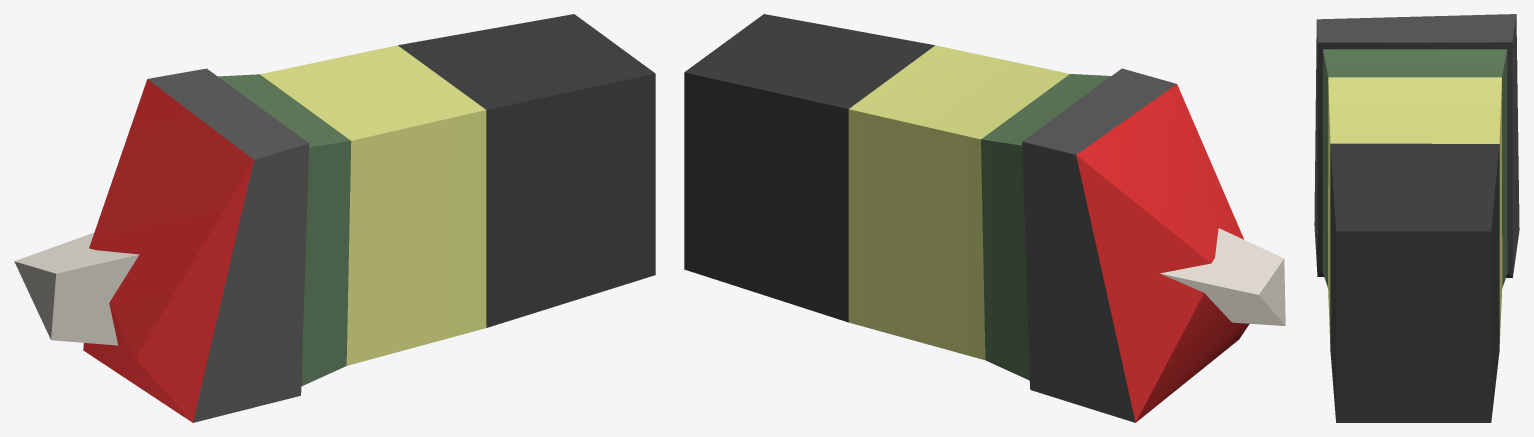
Rendered from MinerZombieLeftForearmGib.glb.
3 renders of one model, left to right at view 1: azimuth 30°, elevation 25°; view 2: azimuth 150°, elevation 25°; view 3: azimuth 270°, elevation 25°, orthographic. The views are drawn at different scales.
Parts seen in each view (by area): view 1: MinerZombieLeftForearmGib; view 2: MinerZombieLeftForearmGib; view 3: MinerZombieLeftForearmGib.
Boxes of the visible parts, bbox=[...] form: MinerZombieLeftForearmGib: bbox=[14, 14, 655, 422]; MinerZombieLeftForearmGib: bbox=[684, 14, 1285, 422]; MinerZombieLeftForearmGib: bbox=[1314, 14, 1519, 422].
Size of the model in its own units: 2.51 by 1.08 by 0.8158.
Materials: 1 (1 with a texture image).
